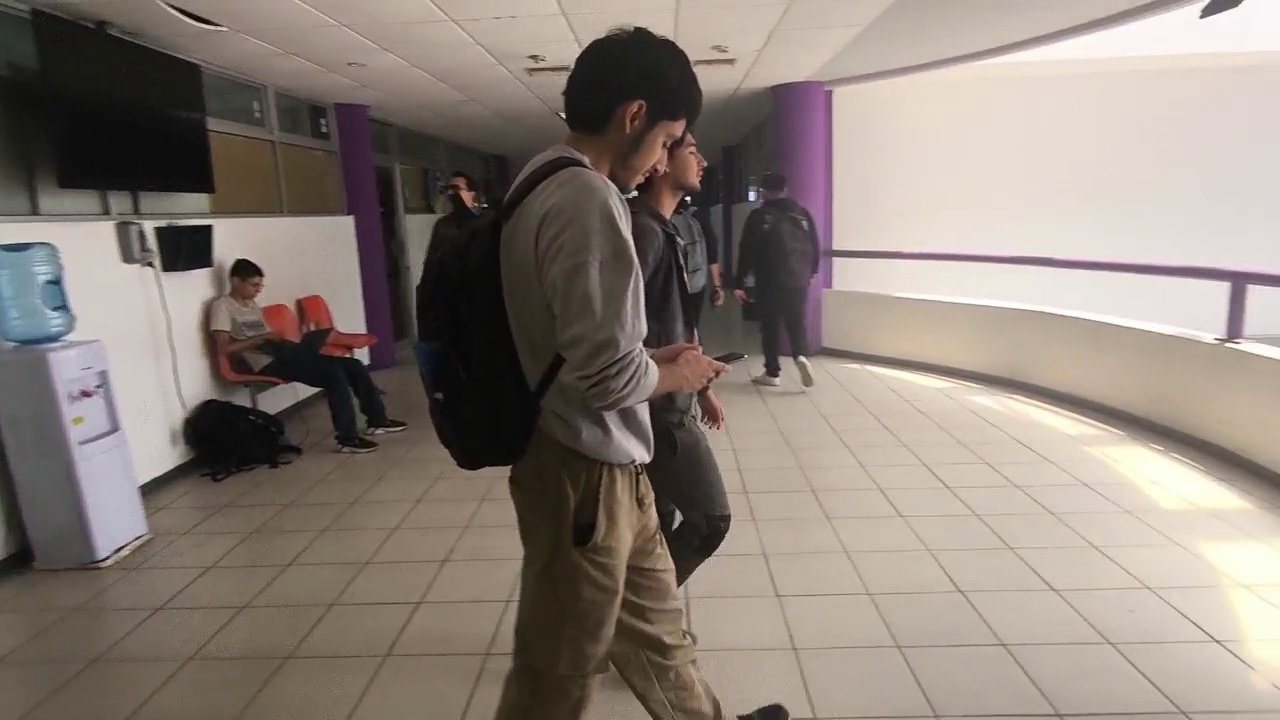mixto2: (705, 343, 754, 369)
